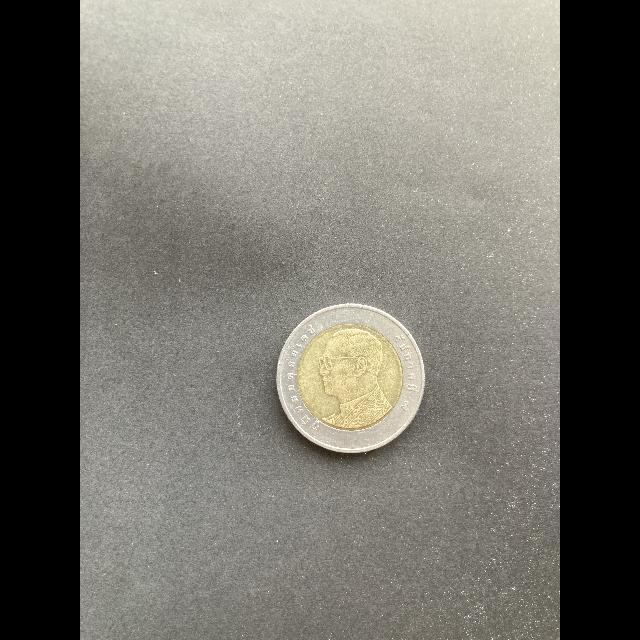10 Bath: (276, 300, 429, 460)
